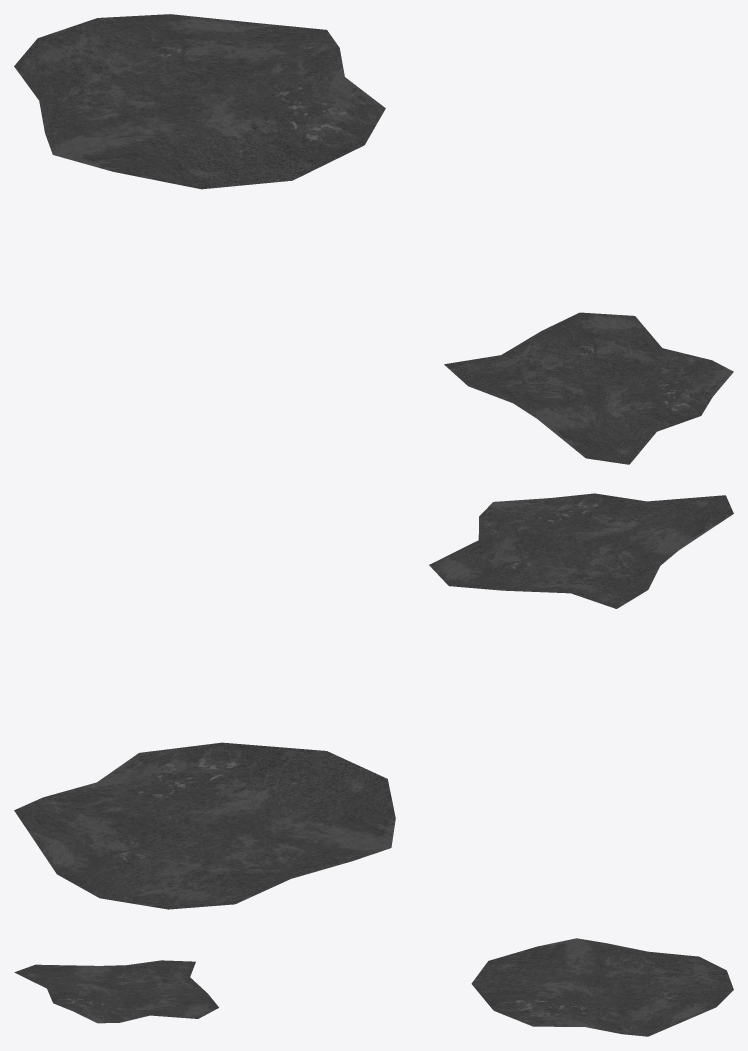
Rendered from OilSpills.fbx.
The picture shows the model from 3 angles, top to bottom: view 1: azimuth 30°, elevation 25°; view 2: azimuth 150°, elevation 25°; view 3: azimuth 270°, elevation 25°; orthographic projection. The views are drawn at different scales.
Parts seen in each view (by area): view 1: OilSpill2, OilSpill1; view 2: OilSpill2, OilSpill1; view 3: OilSpill2, OilSpill1.
Part boxes in pixels (left/top/right/bottom): OilSpill2: left=14, top=14, right=385, bottom=189; OilSpill1: left=444, top=312, right=733, bottom=464; OilSpill2: left=14, top=742, right=395, bottom=909; OilSpill1: left=429, top=493, right=733, bottom=608; OilSpill2: left=471, top=938, right=733, bottom=1036; OilSpill1: left=14, top=960, right=218, bottom=1023.
Bounding box in the file's own units: 257 × 0.8155 × 790.
1 material, 1 textured.
